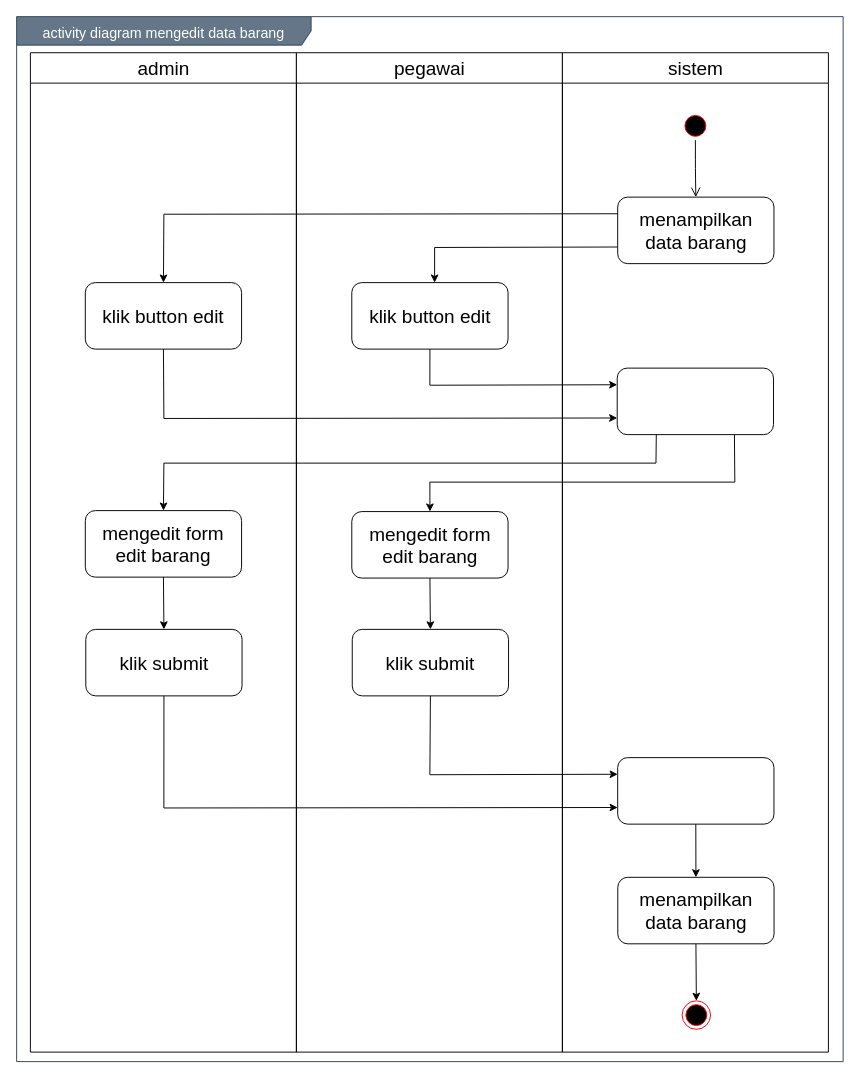
The diagram is 860 pixels wide and 1078 high, and some of its shapes have lost their labels. The shapes that lost their labels are listed below. From the top down, each one's centre as x and y in pixels, then its label:
point 694,401: menampilkan form edit barang
point 695,790: menyimpan ke database
